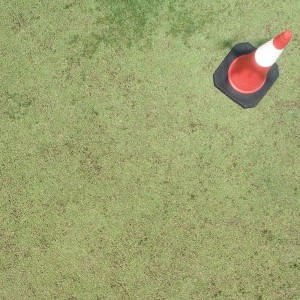traffic cone: (213, 30, 292, 109)
